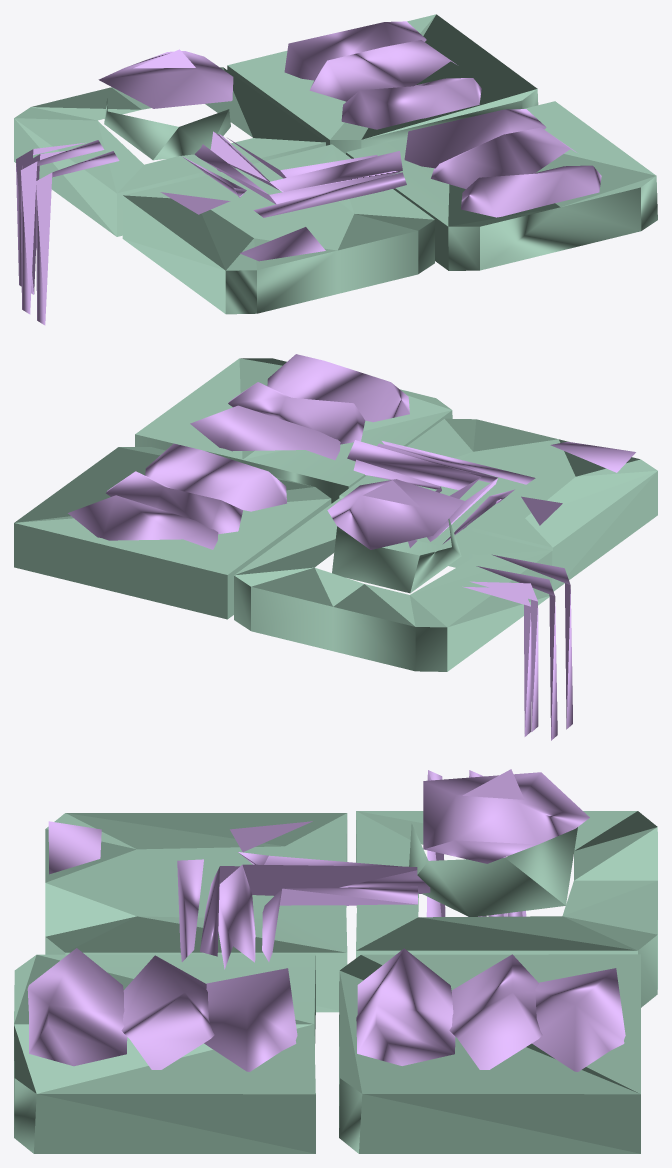
File: backdrop_top_b_lod4.glb
The picture shows the model from 3 angles, top to bottom: view 1: azimuth 30°, elevation 25°; view 2: azimuth 150°, elevation 25°; view 3: azimuth 270°, elevation 25°; orthographic projection. The views are drawn at different scales.
Size of the model in its own units: 128 by 53.77 by 110.
